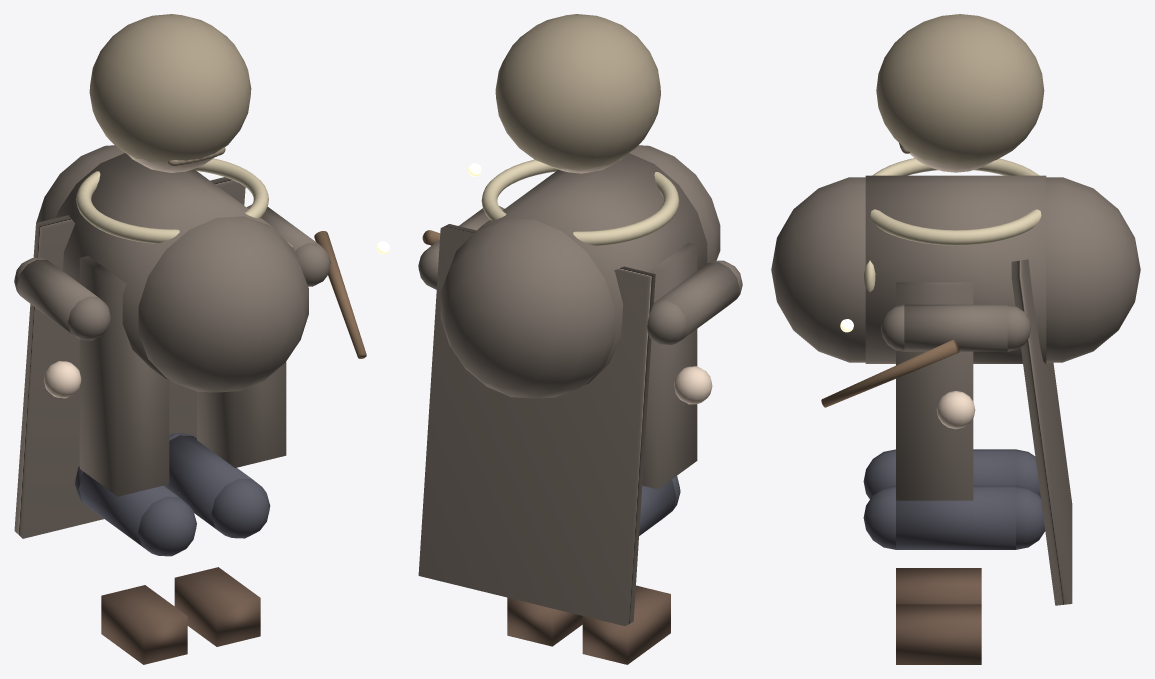
Rendered from lupin.glb.
The picture shows the model from 3 angles, left to right: view 1: azimuth 30°, elevation 25°; view 2: azimuth 150°, elevation 25°; view 3: azimuth 270°, elevation 25°; orthographic projection. The views are drawn at different scales.
Visible parts, largest first — view 1: torso_top, crown, cloak, robe_panel_l, torso_body, robe_panel_r, boot, boot.001, thigh_body.001, trim, upperL_body, thigh_top.001 (+9 smaller); view 2: cloak, torso_bot, crown, torso_body, robe_panel_l, boot, trim, upperL_body, torso_top, boot.001, upperL_bot, thigh_body (+2 smaller); view 3: torso_body, crown, torso_bot, torso_top, robe_panel_r, cloak, thigh_body.001, boot.001, upperR_body, trim, boot, shaft (+8 smaller).
Part boxes in pixels (left/top/right/bottom): torso_top: left=138, top=216, right=308, bottom=392; crown: left=89, top=14, right=251, bottom=162; cloak: left=14, top=177, right=245, bottom=538; robe_panel_l: left=79, top=256, right=169, bottom=496; torso_body: left=56, top=153, right=274, bottom=379; robe_panel_r: left=197, top=362, right=286, bottom=467; boot: left=101, top=585, right=187, bottom=664; boot.001: left=174, top=567, right=260, bottom=646; thigh_body.001: left=164, top=435, right=251, bottom=533; trim: left=76, top=158, right=268, bottom=243; upperL_body: left=17, top=259, right=97, bottom=335; thigh_top.001: left=211, top=478, right=270, bottom=538; cloak: left=418, top=224, right=655, bottom=625; torso_bot: left=440, top=218, right=614, bottom=398; crown: left=495, top=14, right=660, bottom=170; torso_body: left=476, top=153, right=707, bottom=385; robe_panel_l: left=642, top=242, right=697, bottom=489; boot: left=582, top=585, right=670, bottom=664; trim: left=481, top=159, right=679, bottom=245; upperL_body: left=657, top=262, right=739, bottom=340; torso_top: left=629, top=145, right=720, bottom=263; boot.001: left=507, top=597, right=582, bottom=646; upperL_bot: left=647, top=300, right=687, bottom=345; thigh_body: left=639, top=480, right=676, bottom=535; torso_body: left=865, top=175, right=1046, bottom=363; crown: left=876, top=14, right=1044, bottom=166; torso_bot: left=1046, top=177, right=1140, bottom=362; torso_top: left=771, top=177, right=865, bottom=362; robe_panel_r: left=896, top=282, right=973, bottom=500; cloak: left=1011, top=259, right=1072, bottom=605; thigh_body.001: left=896, top=485, right=1015, bottom=549; boot.001: left=896, top=604, right=981, bottom=664; upperR_body: left=904, top=304, right=1007, bottom=351; trim: left=870, top=158, right=1041, bottom=245; boot: left=896, top=568, right=981, bottom=604; shaft: left=821, top=339, right=959, bottom=407.
Bounding box in the file's own units: 0.7987 × 1.58 × 0.86.
